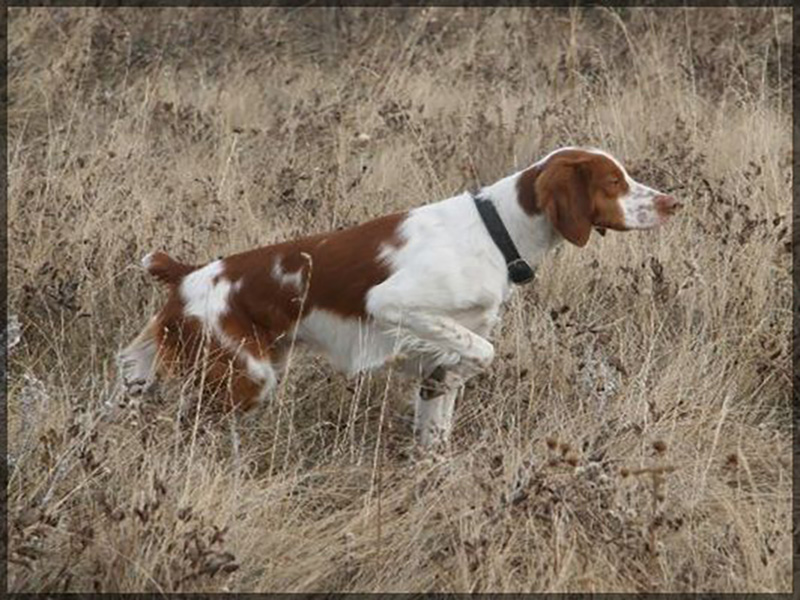cane: (109, 138, 684, 427)
